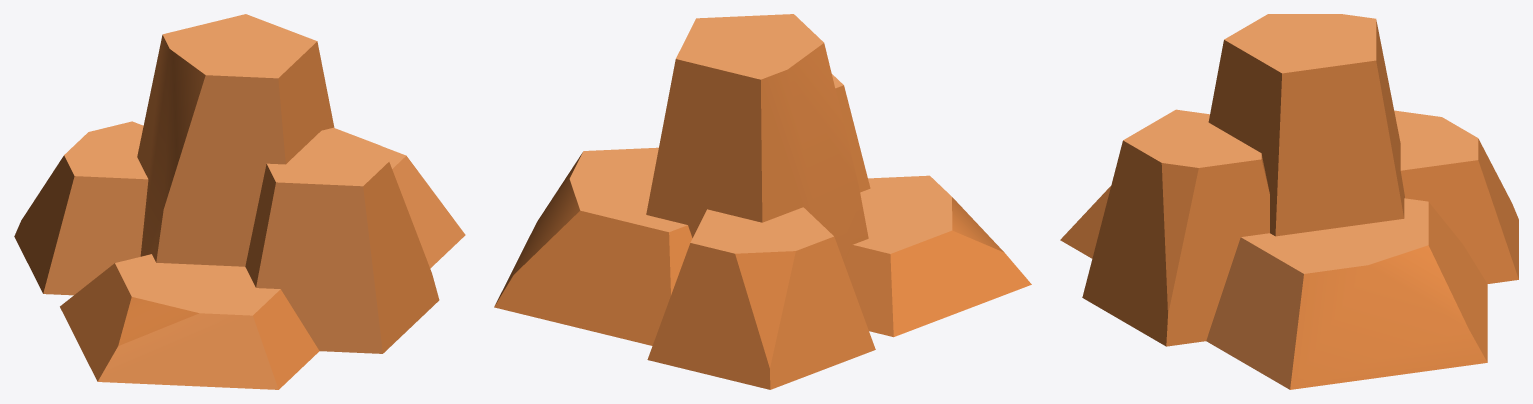
File: rockB2.fbx
3 renders of one model, left to right at view 1: azimuth 30°, elevation 25°; view 2: azimuth 150°, elevation 25°; view 3: azimuth 270°, elevation 25°, orthographic. The views are drawn at different scales.
Parts seen in each view (by area): view 1: rockB2; view 2: rockB2; view 3: rockB2.
Part boxes in pixels (box(x1,y1,x2,y2)): rockB2: box(14, 14, 465, 389); rockB2: box(494, 14, 1031, 389); rockB2: box(1060, 14, 1518, 389).
Size of the model in its own units: 161 by 84.54 by 146.
